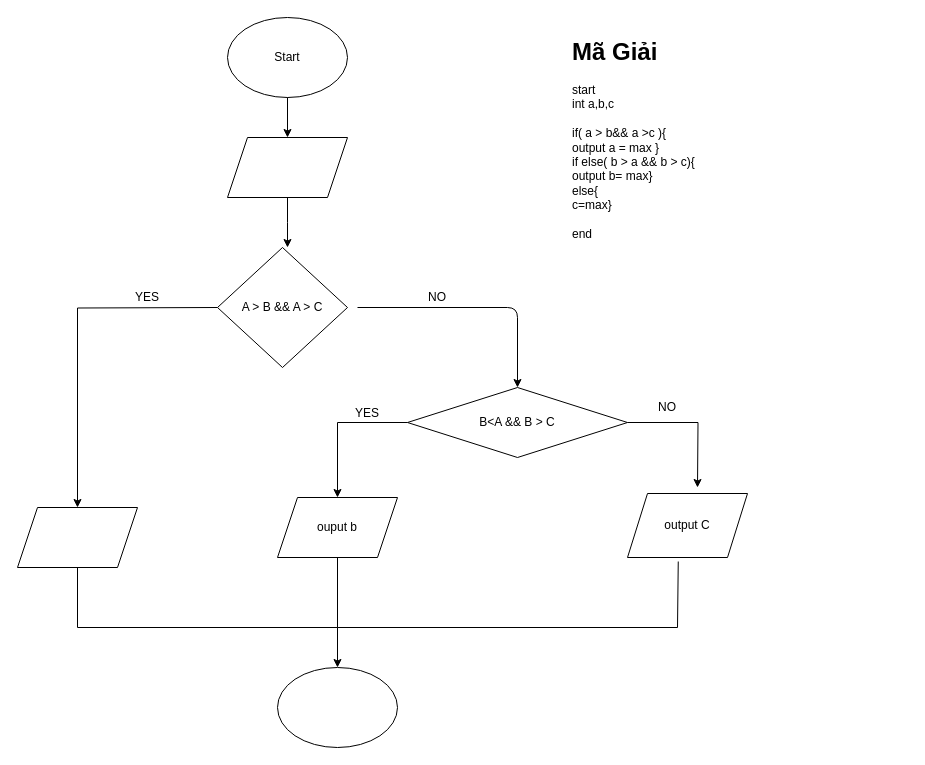
This 925x765 diagram has some shape labels left out. The shapes that lost their labels are listed below. From the top down, each one's box as (x1, y1, x2, y2) in pixels, then its label:
(226, 136, 348, 198): input a , b , c
(16, 506, 138, 568): output a
(276, 666, 398, 748): stop
